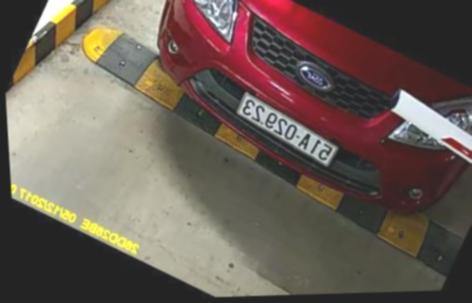License_Plate: (237, 94, 342, 174)
